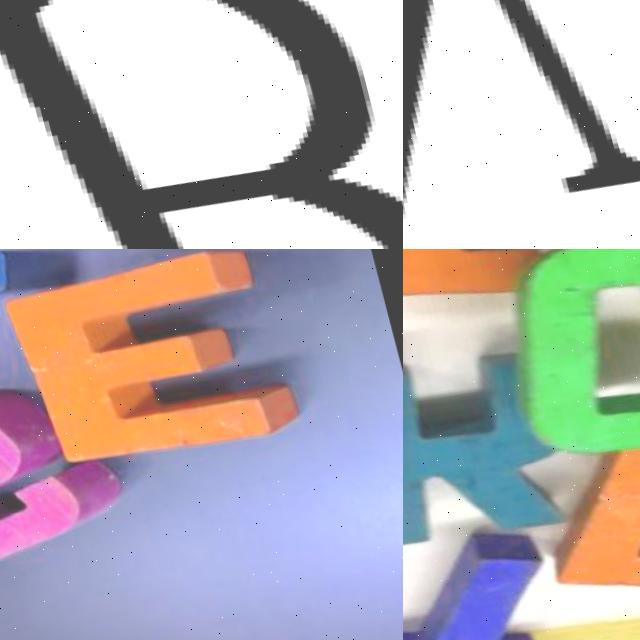C: (488, 249, 640, 480)
E: (0, 249, 315, 487), (544, 378, 640, 623)
K: (403, 303, 598, 565)
N: (403, 0, 640, 249)
S: (0, 339, 127, 601)
T: (403, 513, 569, 640)
